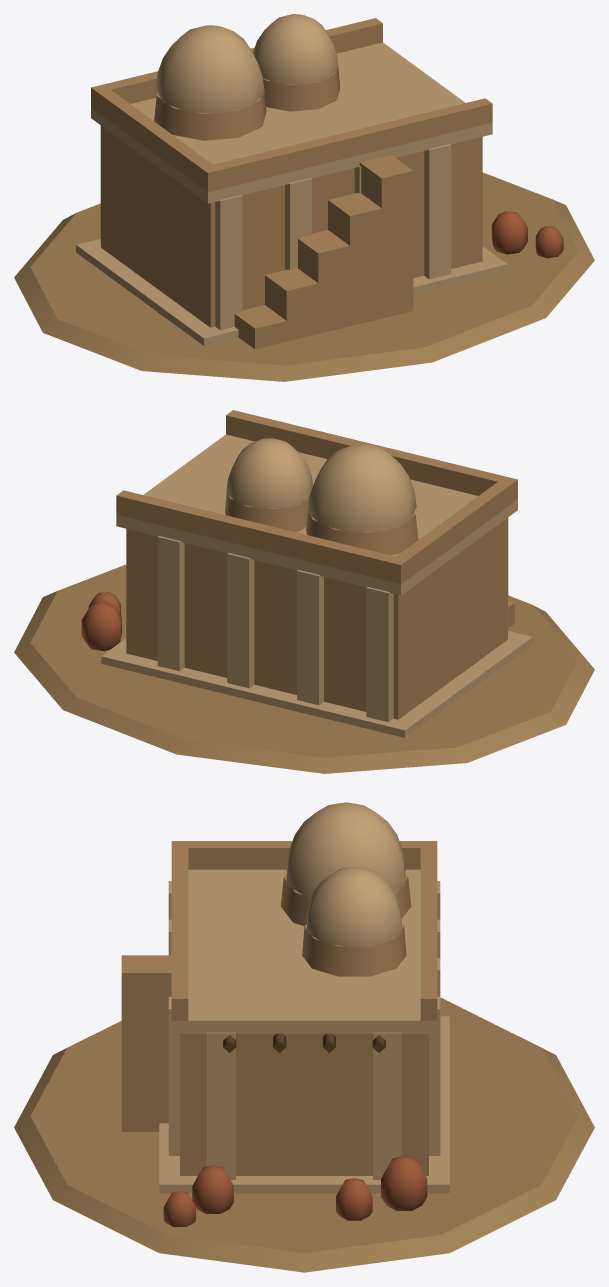
File: almacen.glb
3 views of the same model, one above another, from view 1: azimuth 30°, elevation 25°; view 2: azimuth 150°, elevation 25°; view 3: azimuth 270°, elevation 25° (orthographic). The views are drawn at different scales.
Parts seen in each view (by area): view 1: almacen; view 2: almacen; view 3: almacen.
Part boxes in pixels (<box>): almacen: <box>14,14,594,381</box>; almacen: <box>14,410,594,773</box>; almacen: <box>14,802,594,1272</box>.
Size of the model in its own units: 1.65 by 0.7405 by 1.4.
